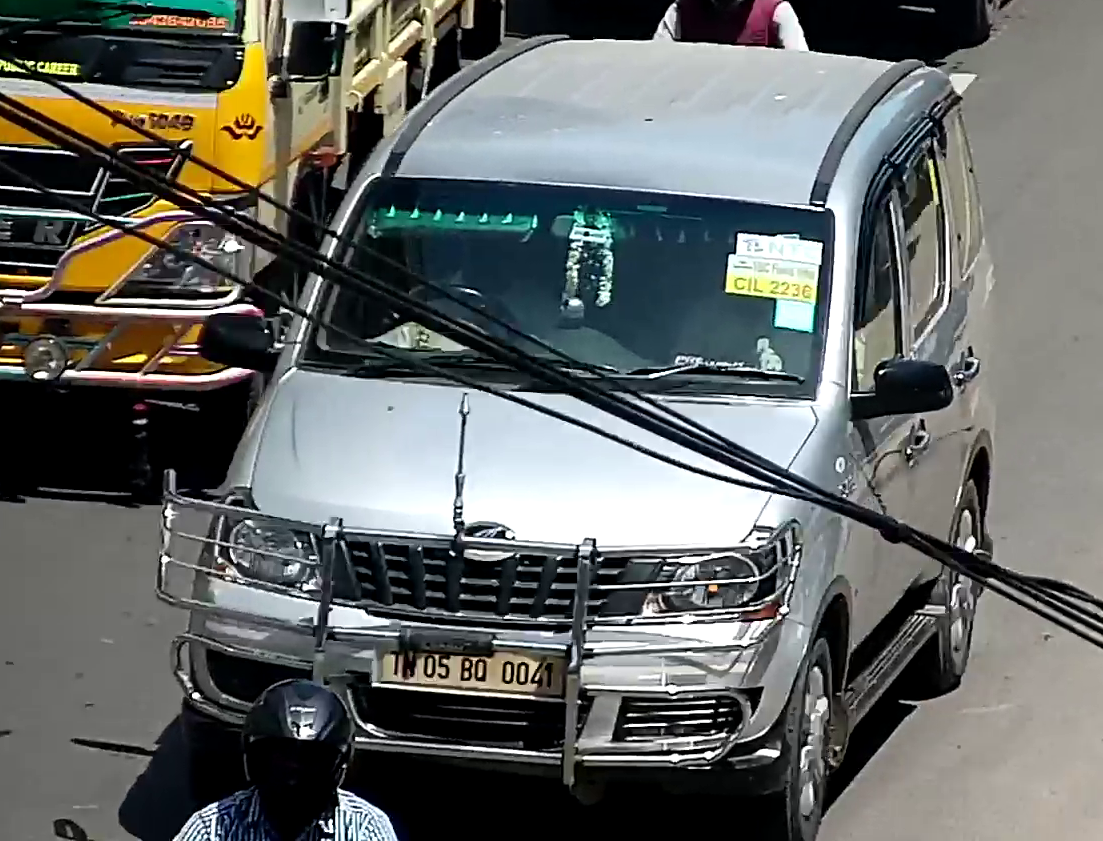0: (473, 658, 487, 682), (516, 661, 529, 686), (501, 661, 515, 684), (423, 655, 436, 678)
1: (544, 661, 554, 688)
4: (530, 661, 543, 688)
5: (437, 655, 451, 679)
B: (459, 657, 473, 682)
N: (402, 652, 417, 678)
P9: (377, 644, 566, 699)
T: (389, 650, 402, 676)
